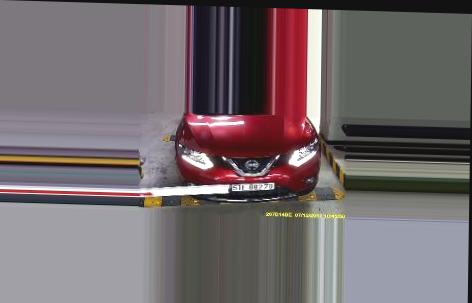License_Plate: (232, 177, 277, 195)
